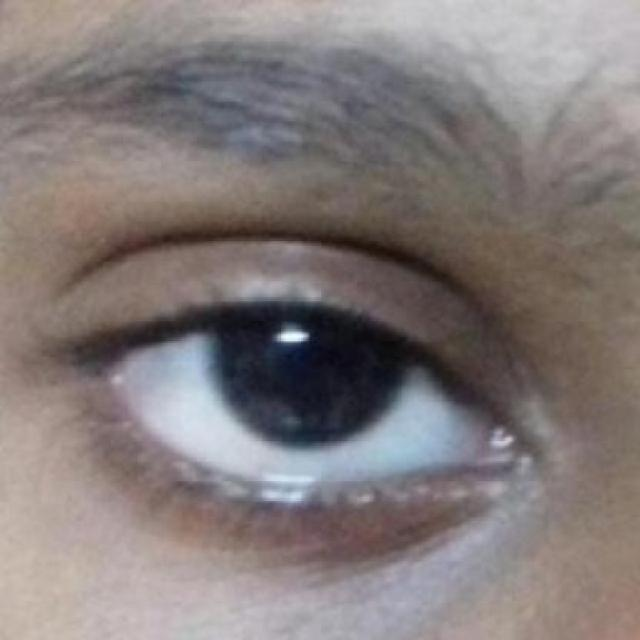awake: (94, 304, 508, 496)
